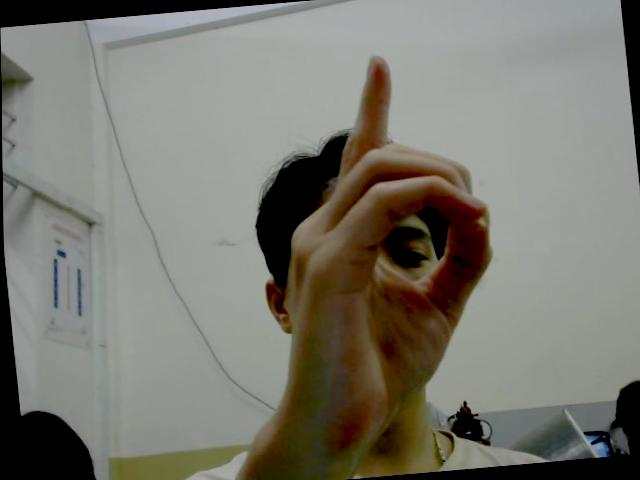D: (259, 43, 512, 436)
